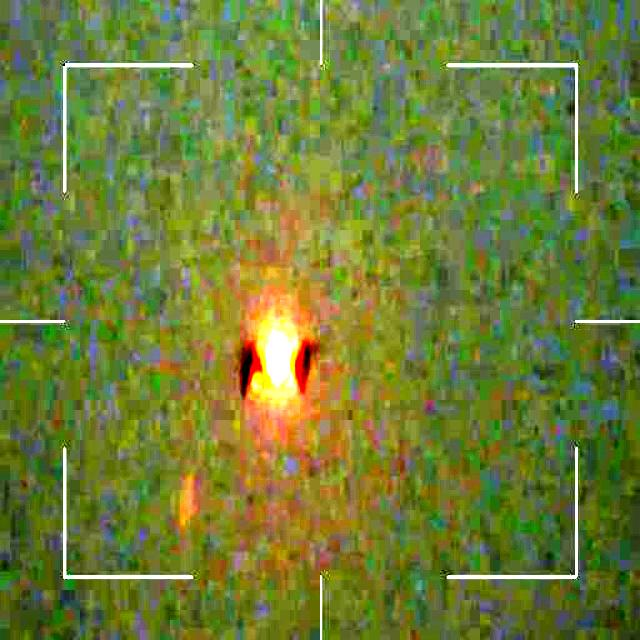bird: (241, 319, 315, 400)
